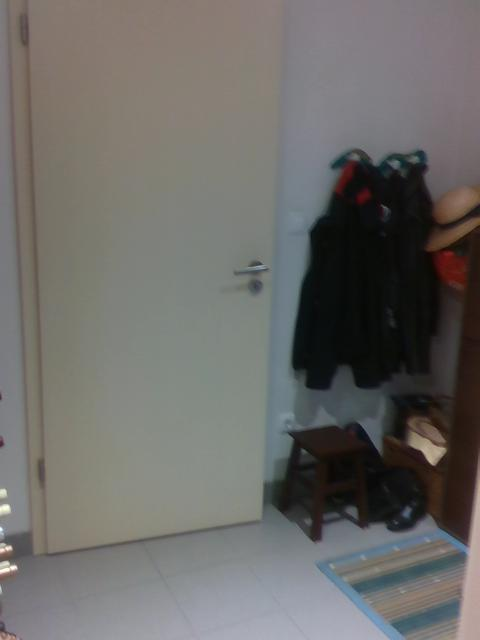door: (11, 0, 282, 560)
